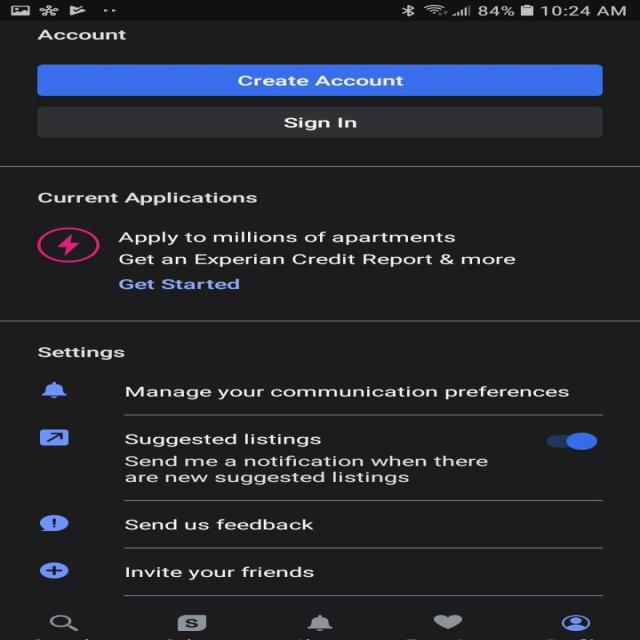Icon: (49, 614, 79, 631), (40, 562, 70, 579), (40, 514, 70, 531), (39, 429, 69, 446), (560, 615, 590, 631), (432, 614, 462, 629), (306, 615, 332, 631), (42, 381, 66, 398)
Image: (36, 227, 100, 263), (176, 614, 206, 631)
Text: (125, 433, 488, 484), (118, 232, 516, 266), (124, 386, 569, 400), (37, 192, 257, 206), (125, 566, 314, 580), (124, 518, 313, 530), (118, 279, 238, 289), (39, 346, 124, 359), (37, 30, 126, 40)
TextButton: (37, 106, 603, 138), (37, 64, 603, 96)
